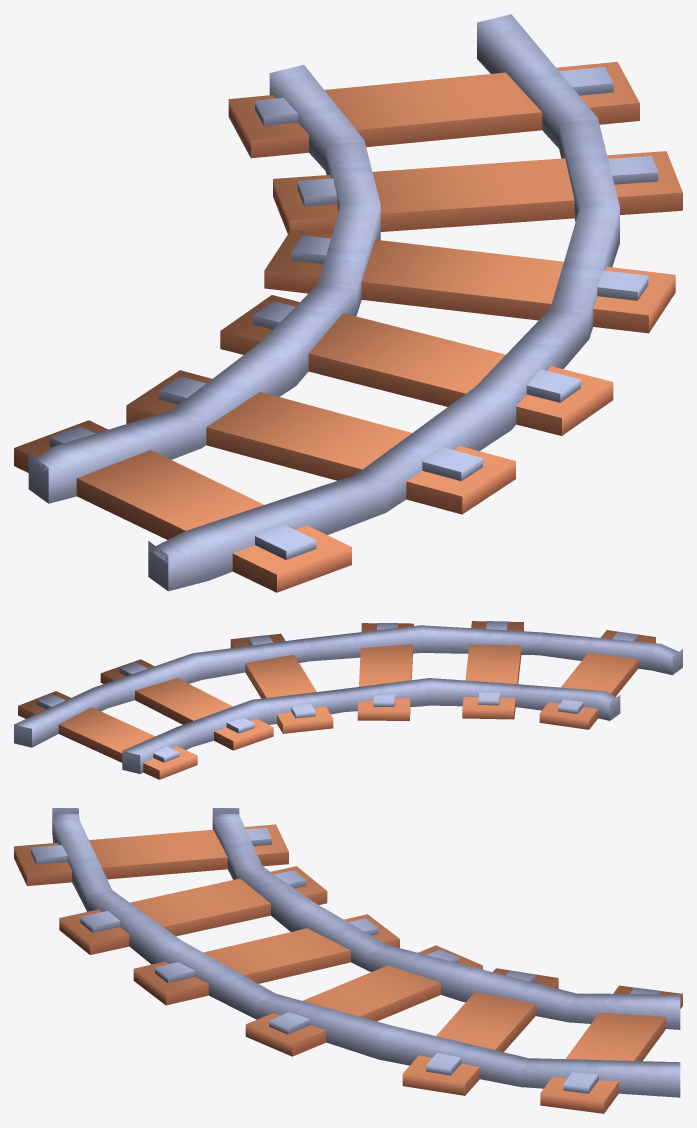
File: railroad-damaged-corner-small.glb
3 renders of one model, top to bottom at view 1: azimuth 30°, elevation 25°; view 2: azimuth 150°, elevation 25°; view 3: azimuth 270°, elevation 25°, orthographic. The views are drawn at different scales.
Visible parts, largest first — view 1: railroad-damaged-corner-small; view 2: railroad-damaged-corner-small; view 3: railroad-damaged-corner-small.
Part boxes in pixels (x1,y1,x2,y2): railroad-damaged-corner-small: [14, 14, 682, 592]; railroad-damaged-corner-small: [14, 621, 682, 779]; railroad-damaged-corner-small: [14, 808, 682, 1113].
Bounding box in the file's own units: 2.49 × 0.0999 × 2.5.
Materials: 1 (1 with a texture image).
